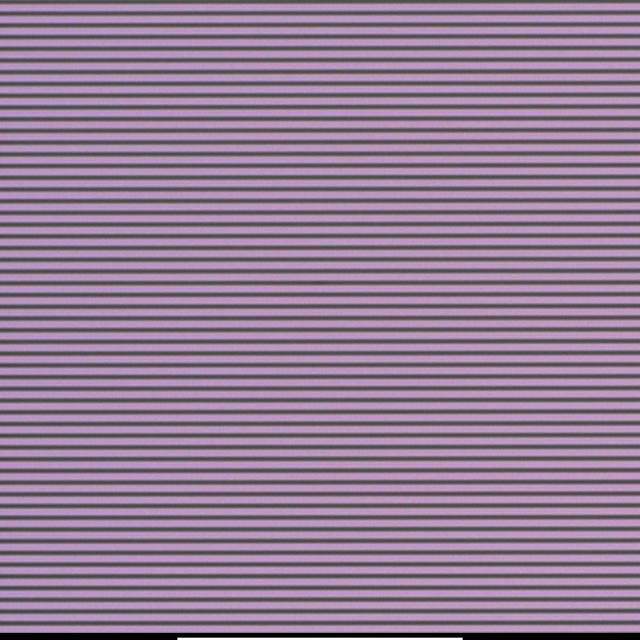03_intrusion: (333, 305, 342, 316)
